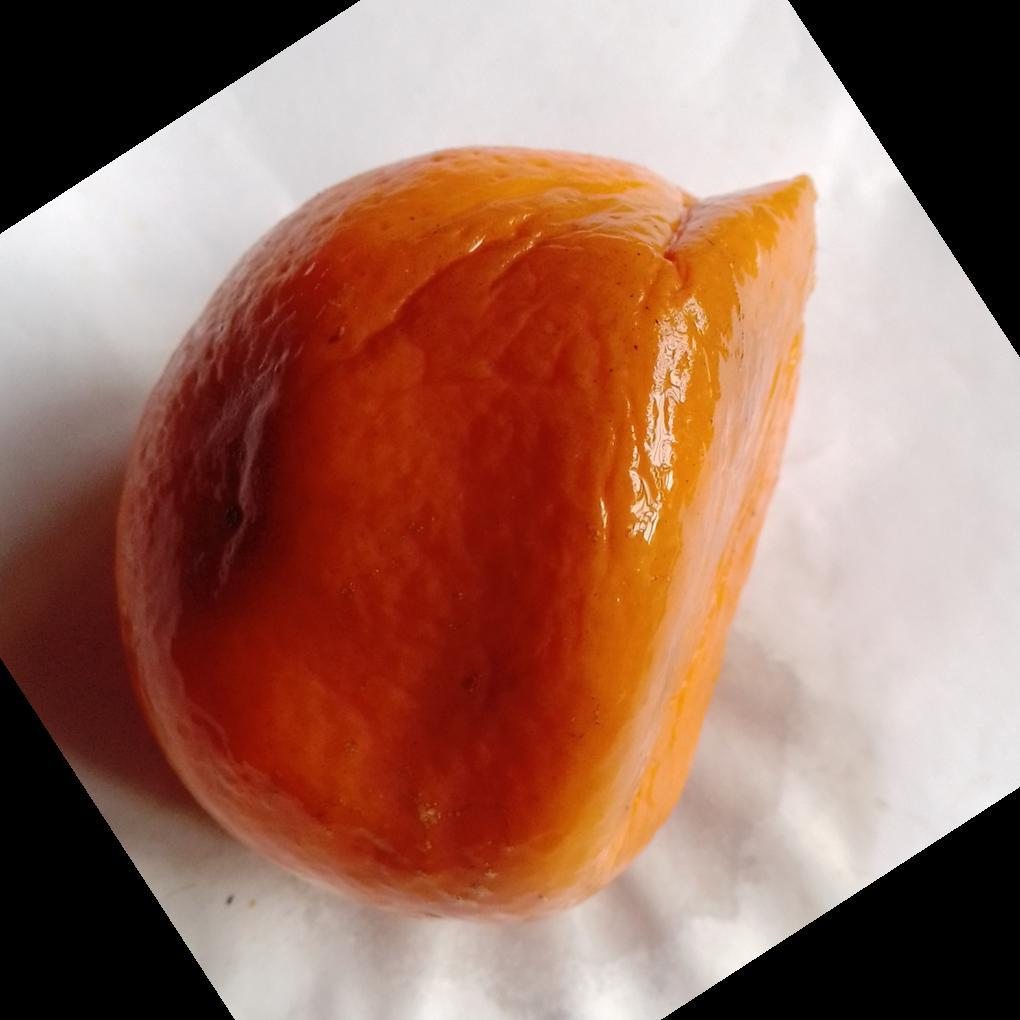FreshOrange: (111, 146, 819, 928)
